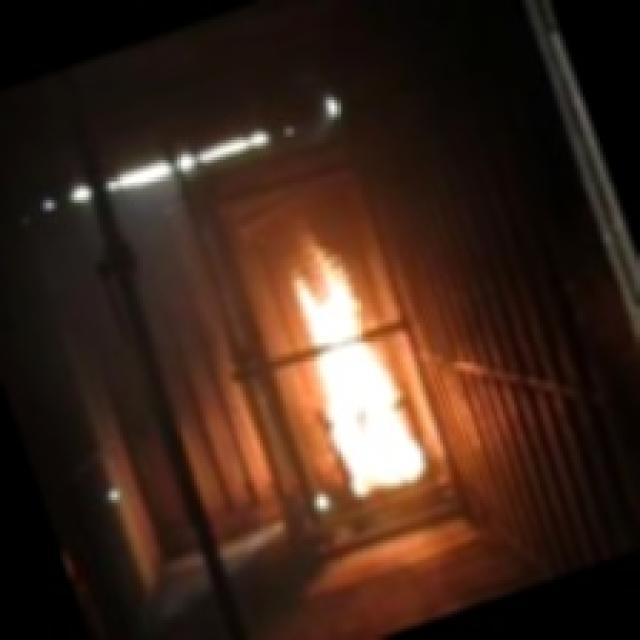fire: (252, 197, 457, 512)
